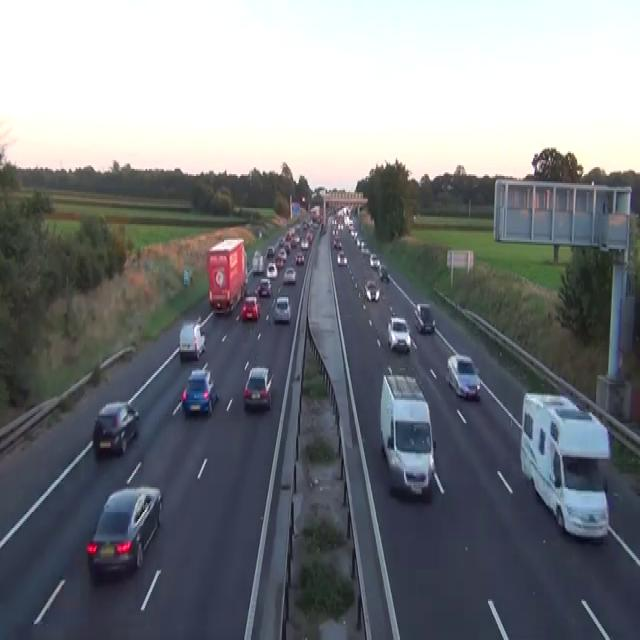Car: (86, 485, 163, 578), (92, 400, 139, 455), (181, 368, 218, 416), (445, 354, 480, 400), (243, 366, 273, 409), (179, 322, 205, 361), (387, 316, 410, 352), (413, 302, 435, 332), (272, 295, 291, 324), (240, 295, 260, 320), (364, 279, 379, 301), (252, 249, 264, 274), (257, 277, 271, 297), (283, 266, 296, 282), (378, 265, 389, 283), (266, 262, 277, 278), (369, 252, 380, 266), (336, 251, 347, 265), (295, 251, 304, 265), (333, 236, 342, 249), (441, 182, 455, 190), (275, 254, 283, 268), (291, 235, 300, 247), (266, 245, 274, 258), (361, 244, 370, 254), (300, 238, 308, 249), (350, 228, 358, 238), (320, 222, 326, 235), (278, 235, 284, 247), (347, 217, 353, 227), (258, 228, 262, 238)
Truck: (519, 391, 611, 542), (379, 372, 435, 498), (206, 237, 247, 314)
